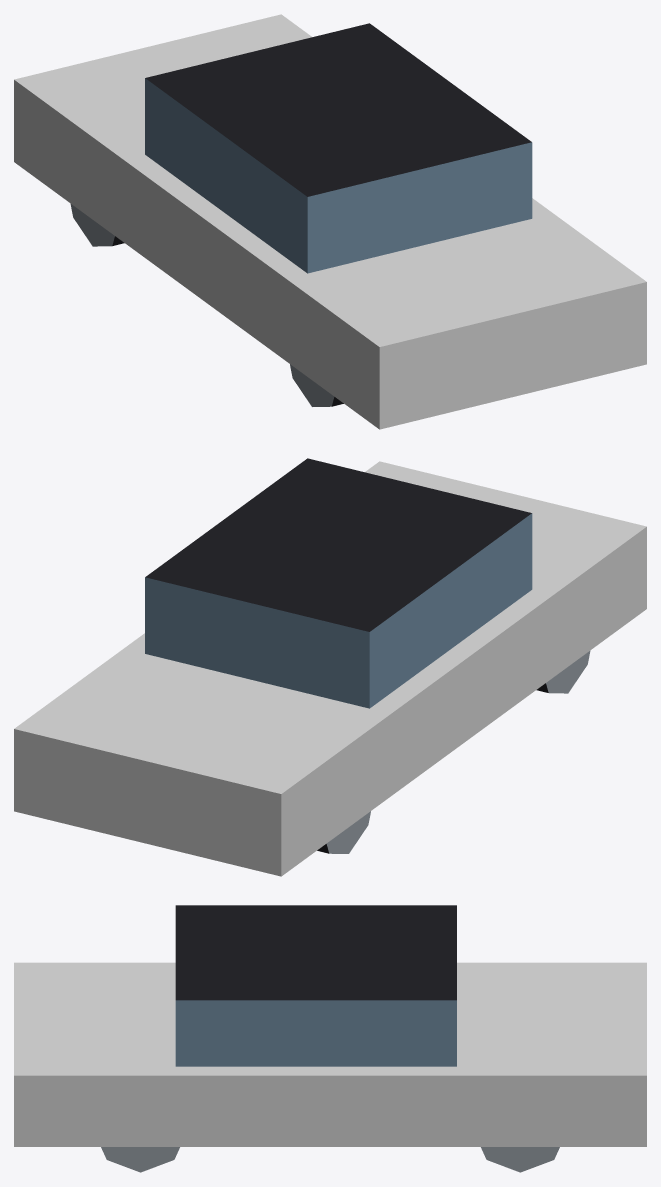
Rendered from calib_car_lod1.glb.
3 views of the same model, one above another, from view 1: azimuth 30°, elevation 25°; view 2: azimuth 150°, elevation 25°; view 3: azimuth 270°, elevation 25° (orthographic). The views are drawn at different scales.
Parts seen in each view (by area): view 1: Body; view 2: Body; view 3: Body.
Part boxes in pixels (box(x1,y1,x2,y2)): Body: box(14, 14, 646, 429); Body: box(14, 458, 646, 876); Body: box(14, 905, 646, 1172).
Size of the model in its own units: 1.9 by 1.3 by 4.5.
